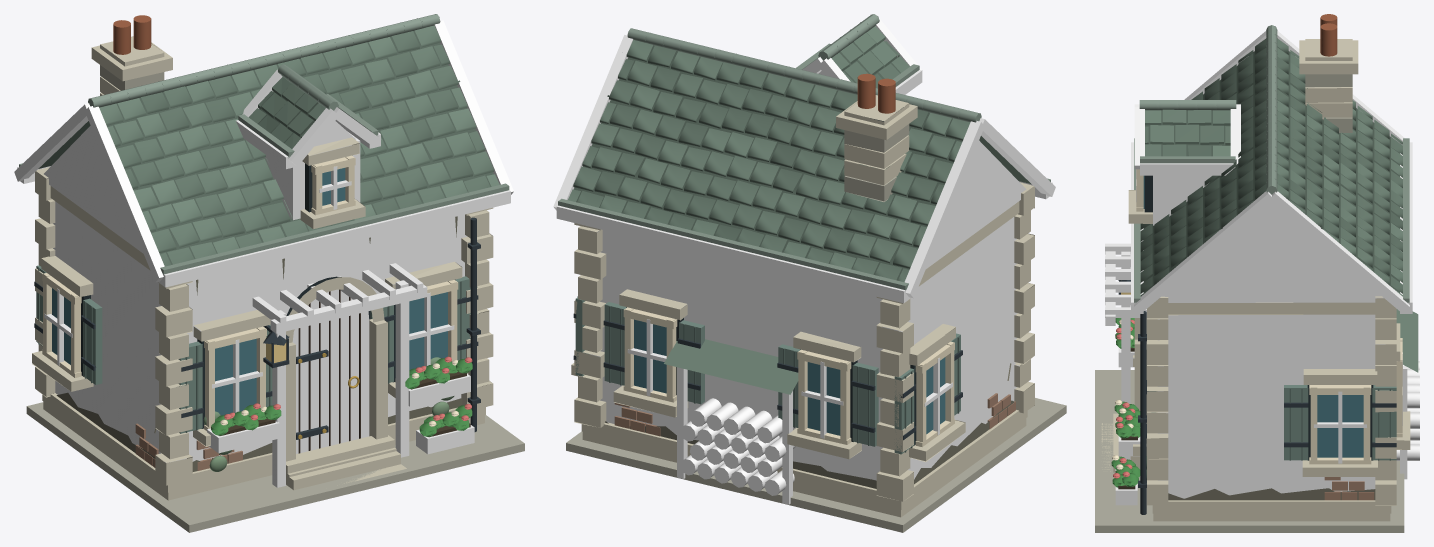
Rendered from garden_house_sage.glb.
3 views of the same model, side by side, from view 1: azimuth 30°, elevation 25°; view 2: azimuth 150°, elevation 25°; view 3: azimuth 270°, elevation 25° (orthographic). The views are drawn at different scales.
Visible parts, largest first — view 1: SourceMesh_00056, SourceMesh_00005, SourceMesh_00000, SourceMesh_00106, SourceMesh_00047, SourceMesh_00048, SourceMesh_00050, SourceMesh_00006, SourceMesh_00049, SourceMesh_00099, SourceMesh_00052, SourceMesh_00310 (+52 smaller); view 2: SourceMesh_00056, SourceMesh_00005, SourceMesh_00044, SourceMesh_00000, SourceMesh_00045, SourceMesh_00006, SourceMesh_00050, SourceMesh_00374, SourceMesh_00046, SourceMesh_00051, SourceMesh_00001, SourceMesh_00099 (+49 smaller); view 3: SourceMesh_00005, SourceMesh_00056, SourceMesh_00053, SourceMesh_00000, SourceMesh_00099, SourceMesh_00044, SourceMesh_00006, SourceMesh_00007, SourceMesh_00214, SourceMesh_00054, SourceMesh_00055, SourceMesh_00047 (+56 smaller).
Part boxes in pixels (left/top/right/bottom): SourceMesh_00056: left=99, top=25, right=499, bottom=266; SourceMesh_00005: left=53, top=201, right=478, bottom=463; SourceMesh_00000: left=26, top=402, right=524, bottom=532; SourceMesh_00106: left=292, top=289, right=369, bottom=453; SourceMesh_00047: left=107, top=31, right=493, bottom=264; SourceMesh_00048: left=158, top=190, right=510, bottom=287; SourceMesh_00050: left=44, top=126, right=143, bottom=253; SourceMesh_00006: left=42, top=393, right=485, bottom=492; SourceMesh_00049: left=160, top=183, right=509, bottom=274; SourceMesh_00099: left=249, top=77, right=325, bottom=148; SourceMesh_00052: left=85, top=106, right=164, bottom=282; SourceMesh_00310: left=395, top=280, right=409, bottom=457; SourceMesh_00056: left=568, top=40, right=969, bottom=282; SourceMesh_00005: left=589, top=217, right=1019, bottom=480; SourceMesh_00044: left=573, top=45, right=962, bottom=280; SourceMesh_00000: left=566, top=398, right=1066, bottom=532; SourceMesh_00045: left=556, top=205, right=910, bottom=303; SourceMesh_00006: left=581, top=410, right=1027, bottom=509; SourceMesh_00050: left=926, top=140, right=1026, bottom=268; SourceMesh_00374: left=664, top=339, right=798, bottom=394; SourceMesh_00046: left=558, top=198, right=908, bottom=290; SourceMesh_00051: left=904, top=121, right=983, bottom=298; SourceMesh_00001: left=582, top=418, right=1026, bottom=517; SourceMesh_00099: left=831, top=26, right=909, bottom=88; SourceMesh_00005: left=1158, top=302, right=1385, bottom=498; SourceMesh_00056: left=1140, top=38, right=1402, bottom=296; SourceMesh_00053: left=1162, top=203, right=1383, bottom=302; SourceMesh_00000: left=1095, top=370, right=1404, bottom=532; SourceMesh_00099: left=1145, top=109, right=1230, bottom=156; SourceMesh_00044: left=1277, top=47, right=1399, bottom=292; SourceMesh_00006: left=1152, top=500, right=1391, bottom=513; SourceMesh_00007: left=1168, top=302, right=1375, bottom=315; SourceMesh_00214: left=1317, top=395, right=1363, bottom=457; SourceMesh_00054: left=1269, top=191, right=1409, bottom=313; SourceMesh_00055: left=1134, top=191, right=1274, bottom=313; SourceMesh_00047: left=1143, top=47, right=1266, bottom=292.
Bounding box in the file's own units: 5.29 × 5.78 × 4.41.
